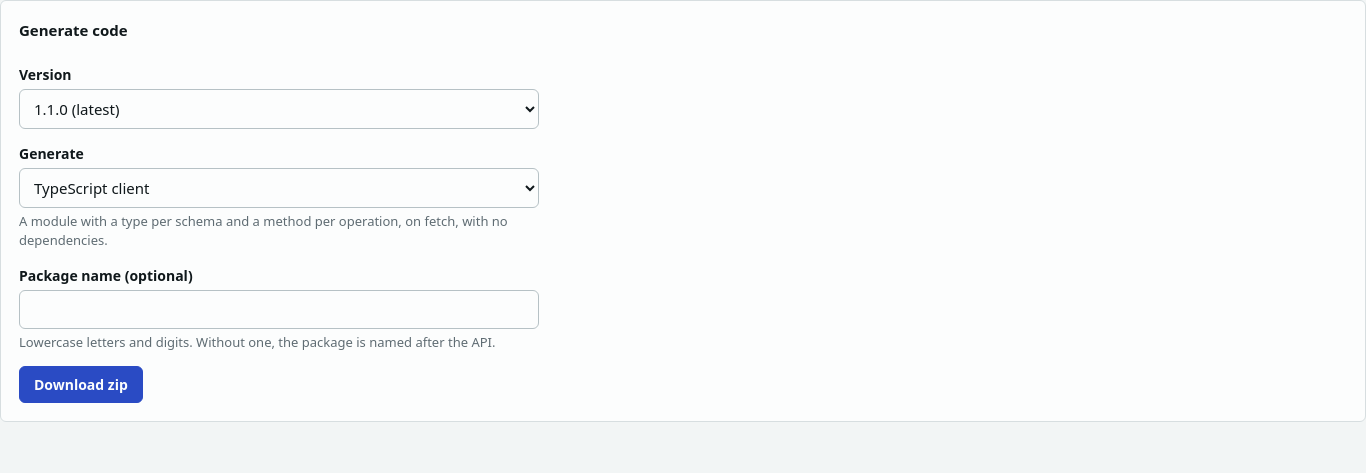
Test: CodeDownload › downloads the chosen version and target, and reports warnings
Select "1.0.0" in the dropdown labelled "Version" at (279, 108), box top-left (19, 88), bottom-right (539, 128)
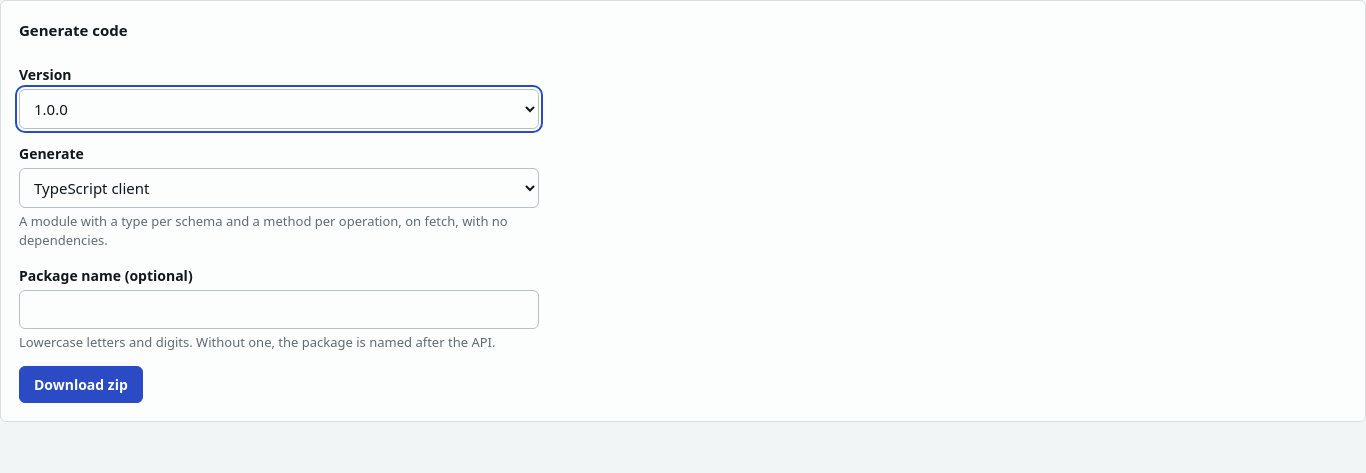
Select "Go client" in the dropdown labelled "Generate" at (279, 188), box top-left (19, 168), bottom-right (539, 208)
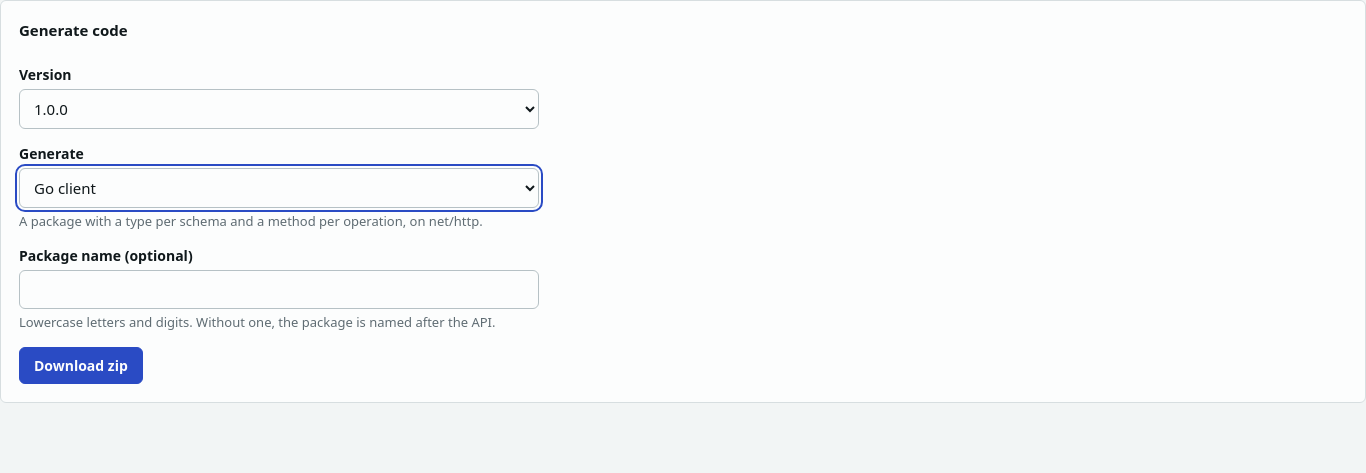
Type "orders" into the field labelled "Package name (optional)" at (279, 290), box top-left (19, 270), bottom-right (539, 309)
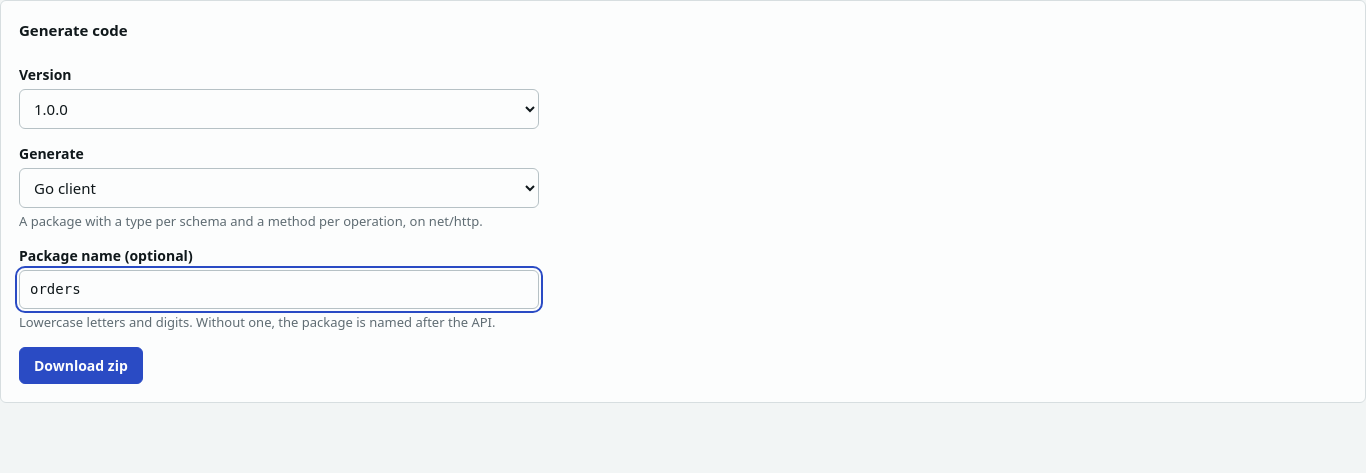
Click the button "Download zip" at (81, 365), box top-left (19, 346), bottom-right (143, 384)
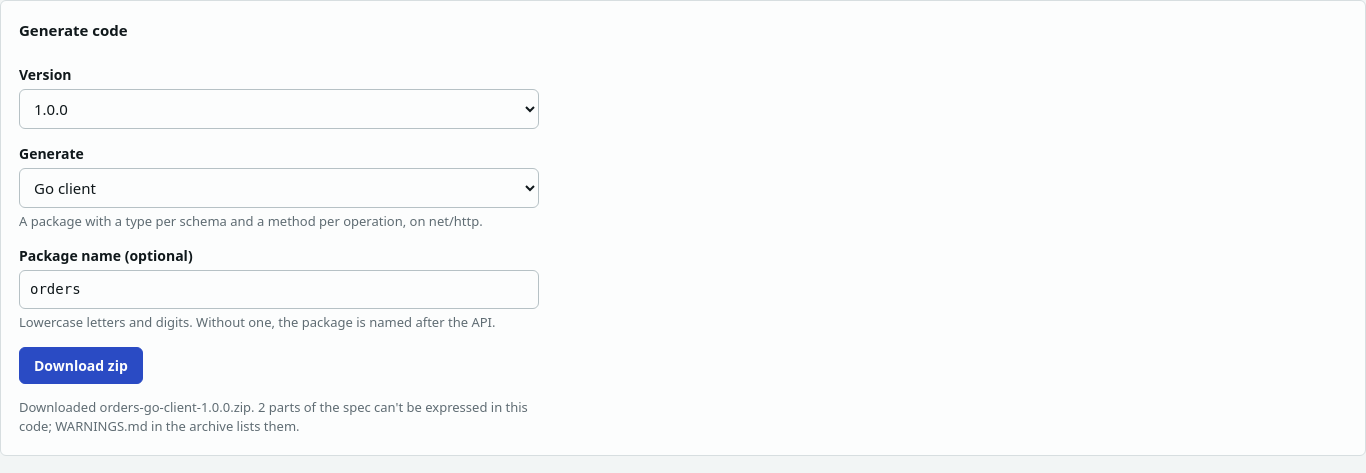
Expected: the message shows "Downloaded orders-go-client-1.0.0.zip. 2 parts of the spec", top-left (19, 398), bottom-right (539, 436)
